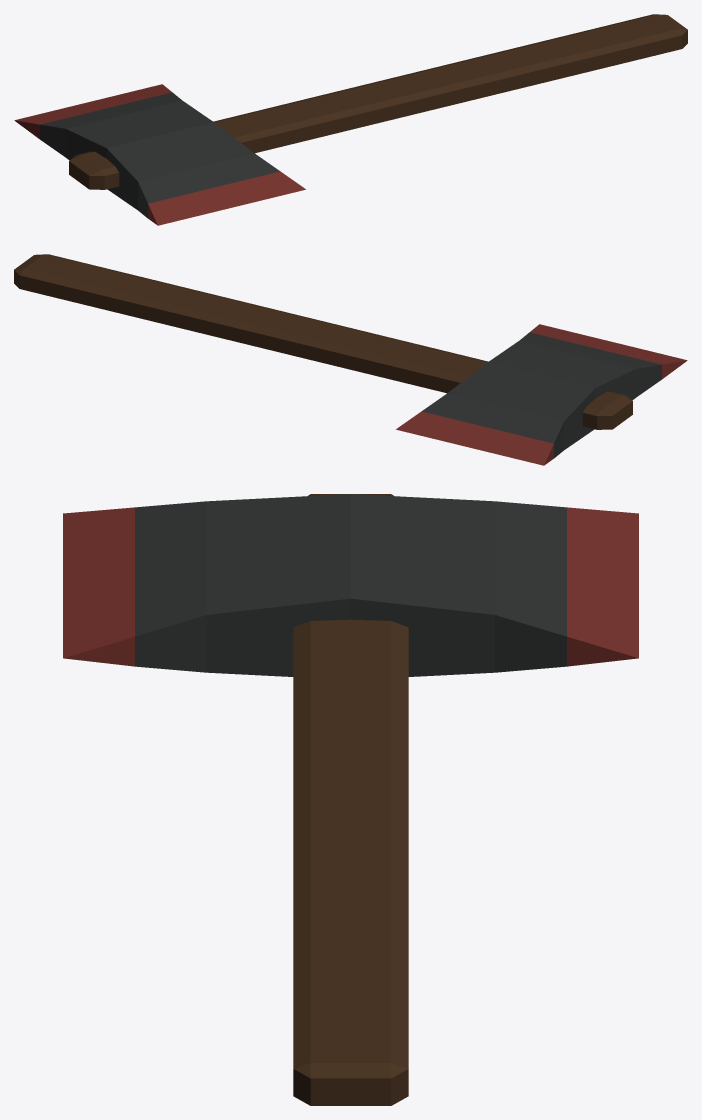
The model's file is Axe_2_Dark_Brown.fbx.
3 renders of one model, top to bottom at view 1: azimuth 30°, elevation 25°; view 2: azimuth 150°, elevation 25°; view 3: azimuth 270°, elevation 25°, orthographic. The views are drawn at different scales.
Parts seen in each view (by area): view 1: Axe_2_Dark_Brown; view 2: Axe_2_Dark_Brown; view 3: Axe_2_Dark_Brown.
Part boxes in pixels (x1,y1,x2,y2): Axe_2_Dark_Brown: [14, 14, 687, 225]; Axe_2_Dark_Brown: [14, 254, 687, 465]; Axe_2_Dark_Brown: [63, 494, 638, 1105].
Bounding box in the file's own units: 96 × 6.23 × 40.
